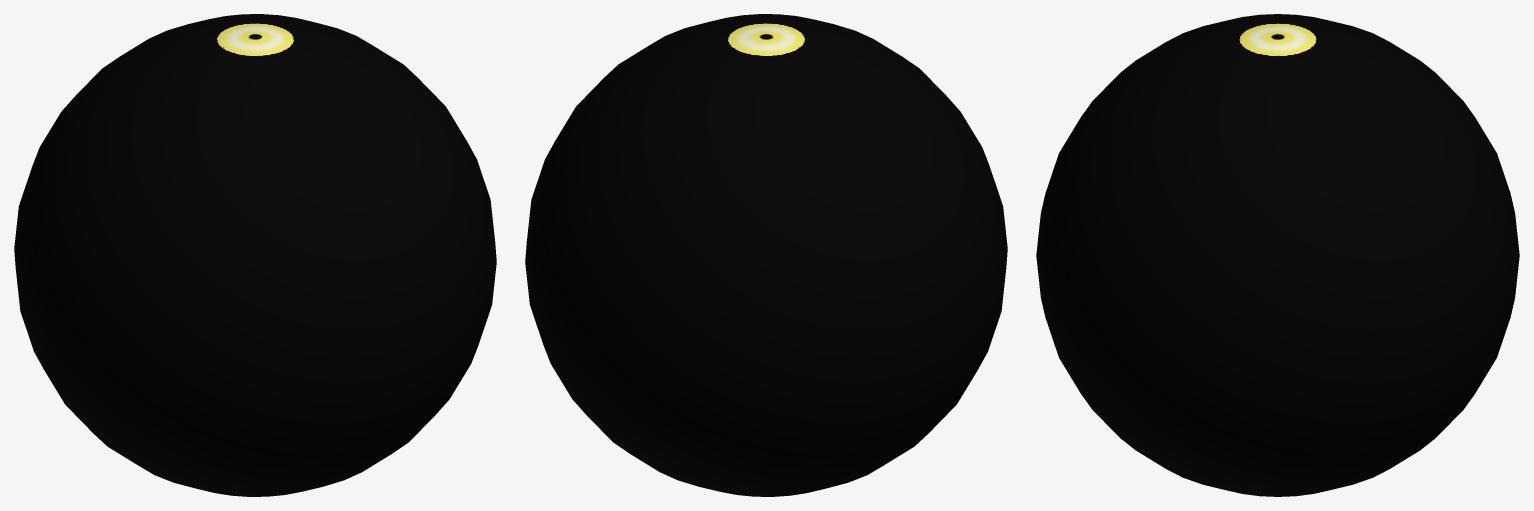
Rendered from Explosion.fbx.
The picture shows the model from 3 angles, left to right: view 1: azimuth 30°, elevation 25°; view 2: azimuth 150°, elevation 25°; view 3: azimuth 270°, elevation 25°; orthographic projection.
Visible parts, largest first — view 1: ExplosionOuter; view 2: ExplosionOuter; view 3: ExplosionOuter.
Boxes of the visible parts, bbox=[...] form: ExplosionOuter: bbox=[14, 14, 496, 496]; ExplosionOuter: bbox=[525, 14, 1007, 496]; ExplosionOuter: bbox=[1036, 14, 1519, 496].
Bounding box in the file's own units: 2 × 2 × 2.
